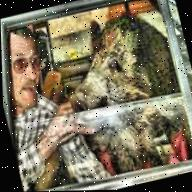boar: (54, 1, 192, 175)
